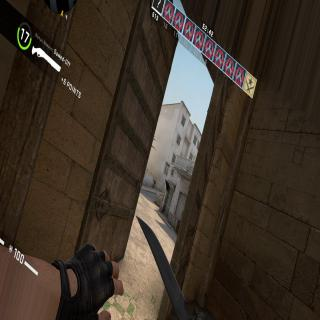CT-Body: (152, 179, 156, 188)
CT-Head: (154, 179, 155, 181)
